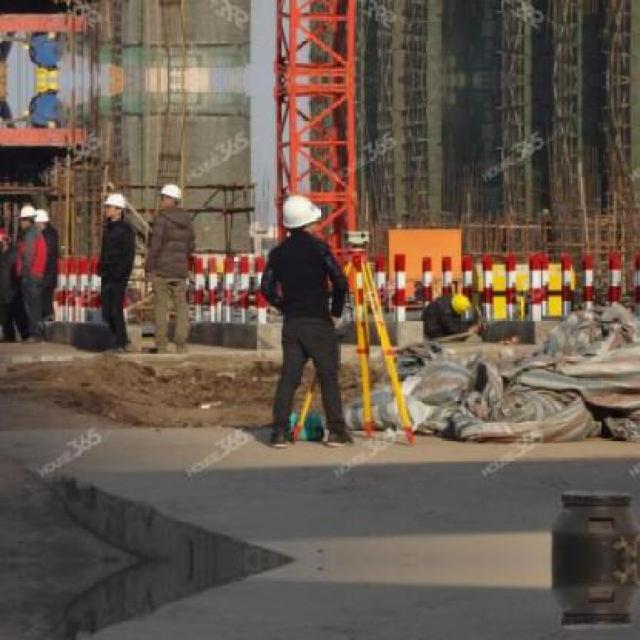helmet: (276, 192, 321, 236), (100, 190, 125, 219), (160, 181, 182, 210), (451, 289, 472, 314), (17, 205, 35, 229), (36, 208, 50, 229), (34, 80, 49, 94), (34, 66, 49, 80)
